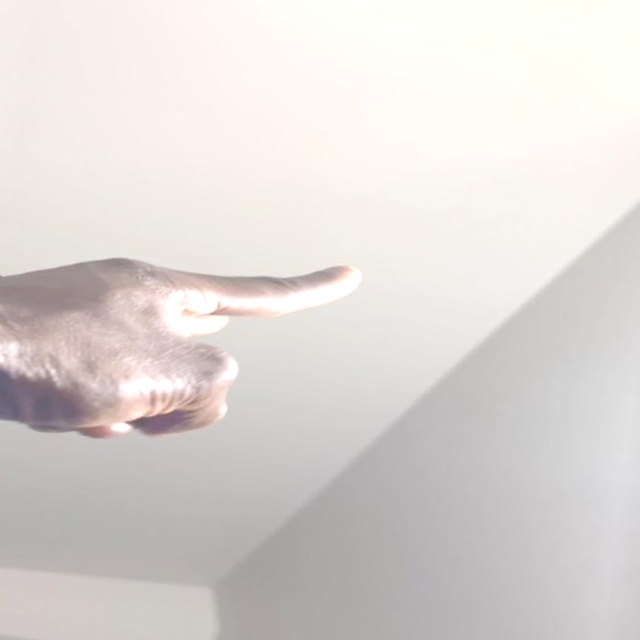Scissors: (0, 223, 367, 469)
